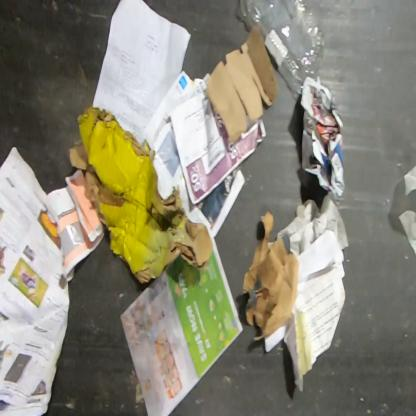cardboard: (69, 104, 214, 284), (205, 22, 280, 145)
rigid_plastic: (236, 0, 326, 96)
